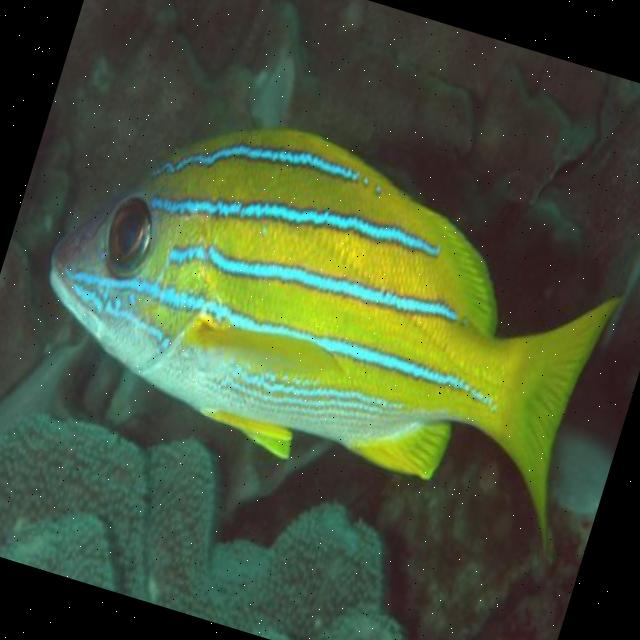ikan: (6, 67, 640, 562)
